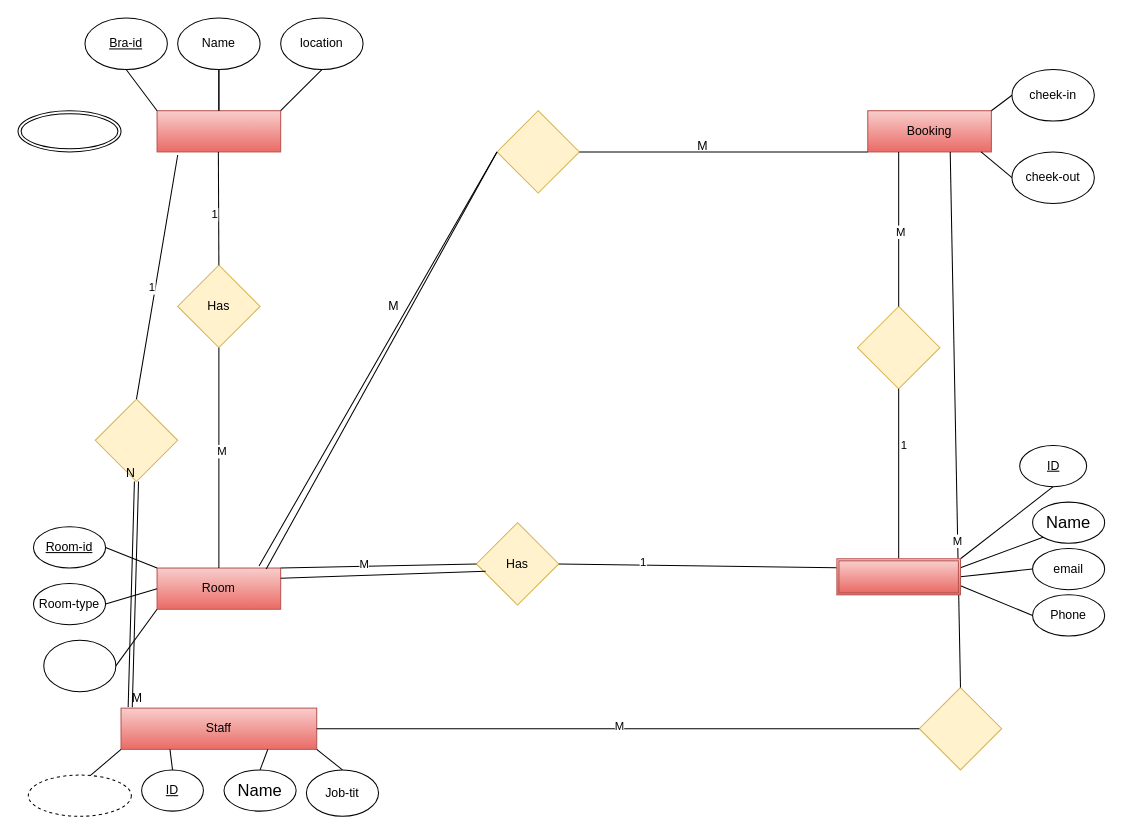
Image size: 1123x834. Some labels were removed from this diagram. Here are the shapes that lost their labels. From the top down, the centre of each, then its label:
At (x=69, y=131): "Attribute".
At (x=218, y=131): "Branch".
At (x=537, y=151): "include".
At (x=898, y=347): "linked".
At (x=136, y=440): "Assigned".
At (x=898, y=576): "Customer".
At (x=79, y=665): "Night-Rate".
At (x=960, y=728): "cheek".
At (x=79, y=795): "Salary".
